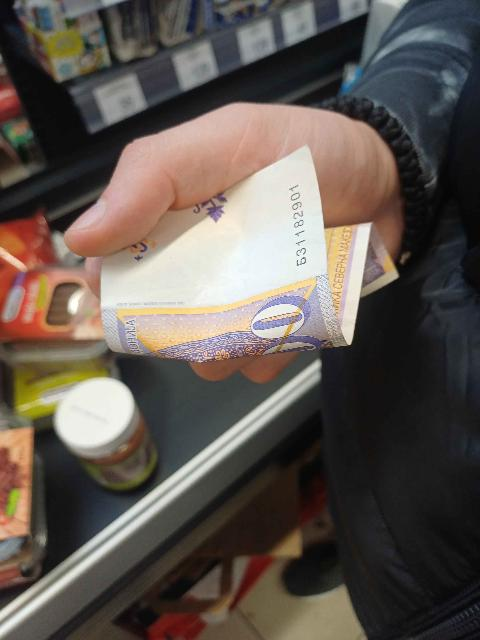2000_note: (102, 147, 397, 361)
